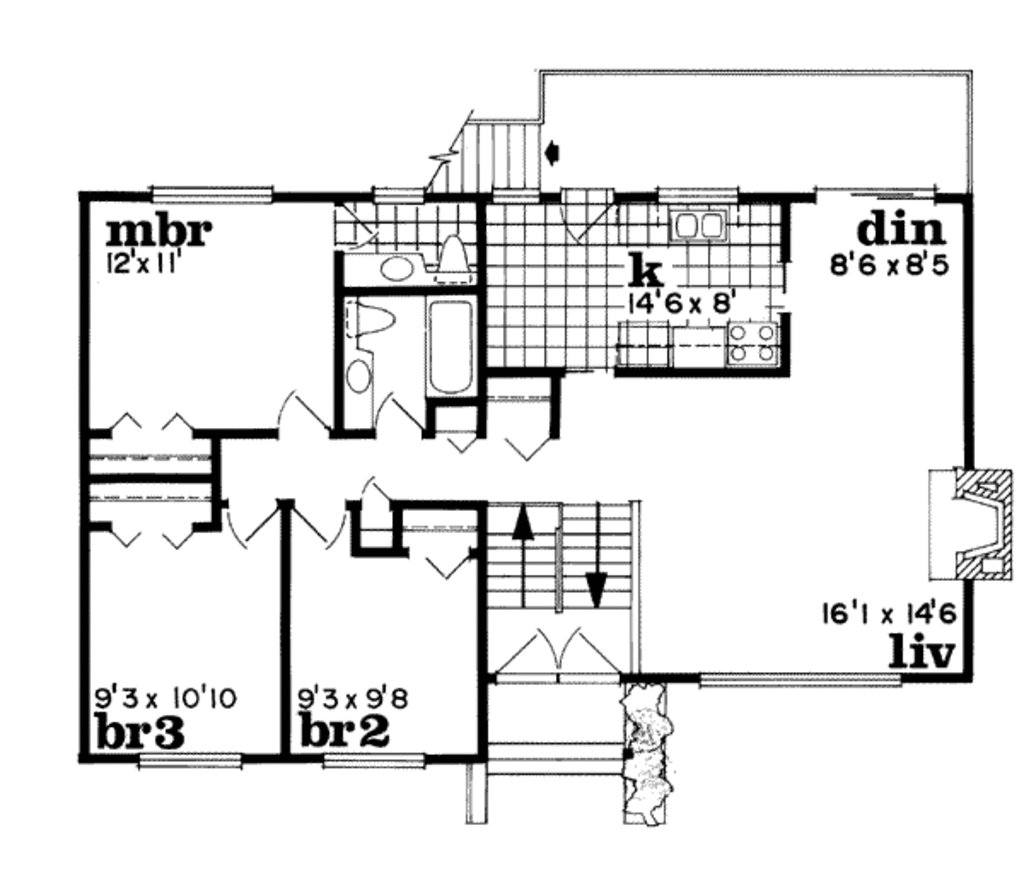door: (493, 627, 623, 680), (554, 177, 627, 242), (220, 486, 286, 550), (292, 494, 349, 553), (273, 387, 332, 440), (373, 392, 432, 441)
large_sink: (340, 290, 400, 346), (435, 231, 474, 290)
small_sink: (338, 249, 432, 286), (342, 344, 378, 436)
stairs: (478, 487, 646, 613), (403, 104, 547, 194)
tub: (423, 295, 484, 400)
twin_sink: (662, 194, 732, 245)
window: (701, 667, 904, 690), (150, 180, 274, 204), (322, 749, 428, 775), (135, 748, 247, 772)
